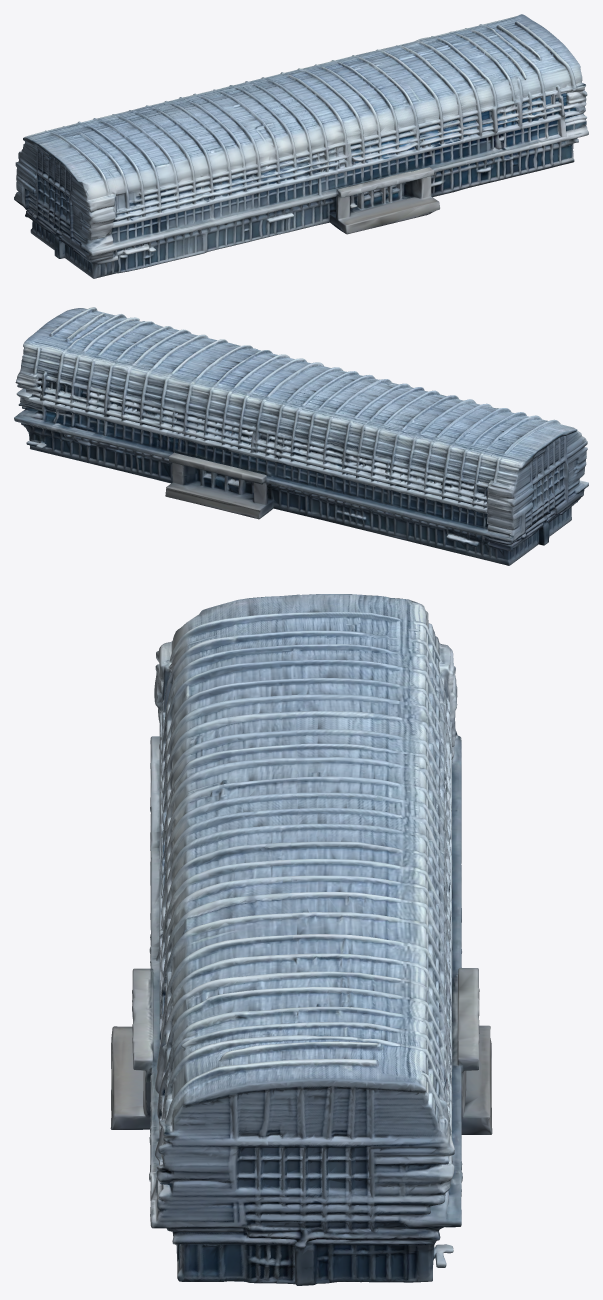
The model's file is convention.glb.
3 renders of one model, top to bottom at view 1: azimuth 30°, elevation 25°; view 2: azimuth 150°, elevation 25°; view 3: azimuth 270°, elevation 25°, orthographic. The views are drawn at different scales.
Visible parts, largest first — view 1: tripo_node_dd043e97-a454-4bd2-8df4-eddb8b78309c; view 2: tripo_node_dd043e97-a454-4bd2-8df4-eddb8b78309c; view 3: tripo_node_dd043e97-a454-4bd2-8df4-eddb8b78309c.
Part boxes in pixels (<box>): tripo_node_dd043e97-a454-4bd2-8df4-eddb8b78309c: <box>14,14,588,278</box>; tripo_node_dd043e97-a454-4bd2-8df4-eddb8b78309c: <box>14,307,588,565</box>; tripo_node_dd043e97-a454-4bd2-8df4-eddb8b78309c: <box>110,594,492,1285</box>.
Bounding box in the file's own units: 0.9999 × 0.2081 × 0.3302.
Materials: 1 (1 with a texture image).
